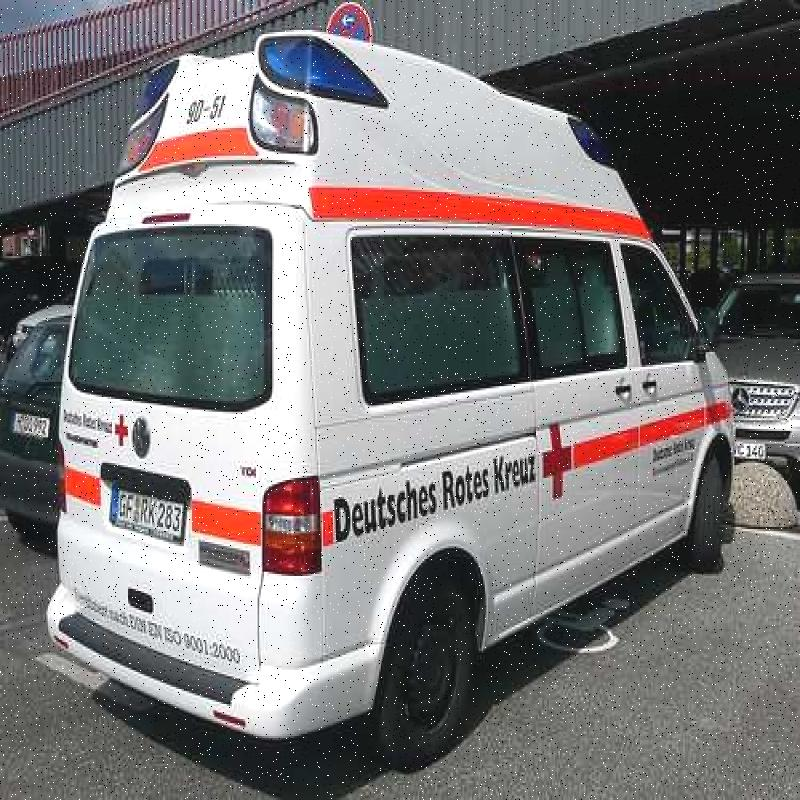ambulance: (47, 0, 731, 800)
